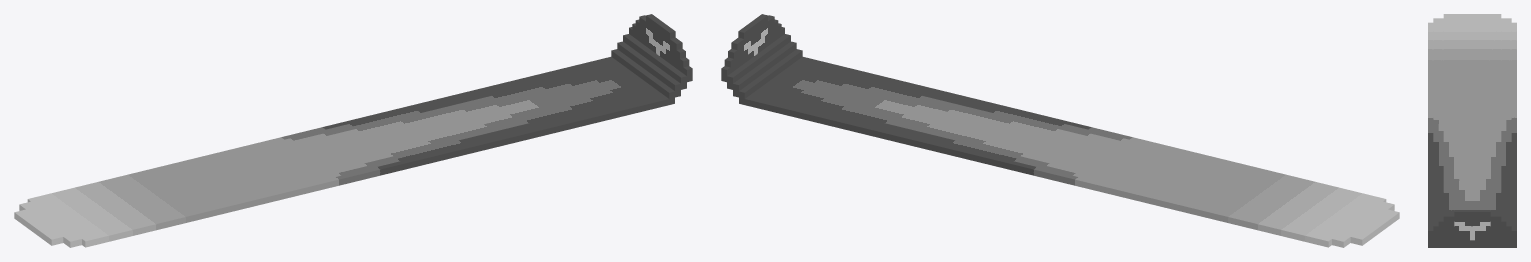
Rendered from 滑雪板.gltf.
3 views of the same model, side by side, from view 1: azimuth 30°, elevation 25°; view 2: azimuth 150°, elevation 25°; view 3: azimuth 270°, elevation 25° (orthographic). The views are drawn at different scales.
Visible parts, largest first — view 1: Object; view 2: Object; view 3: Object.
Boxes of the visible parts, <box> form: Object: <box>14,14,692,247</box>; Object: <box>721,14,1399,247</box>; Object: <box>1428,14,1516,247</box>.
Size of the model in its own units: 107 by 9 by 17.
1 material, 1 textured.
